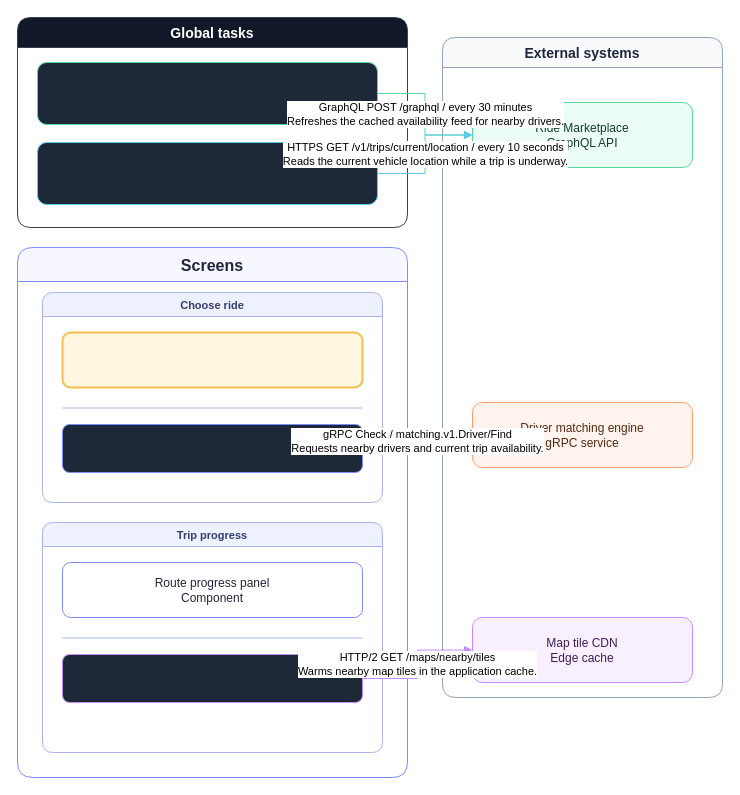
The diagram is 740 pixels wide and 795 high, and some of its shapes have lost their labels. Each missing label, with the centre of its shape:
Estimate trip fares Screen background task: the point at 212,448
Poll trip location Polling / every 10 seconds: the point at 207,173
Prefetch map tiles Screen background task: the point at 212,678
Sync driver availability Scheduled / every 30 minutes: the point at 207,93
⚠ Ride choice card Component / flagged: the point at 212,359
